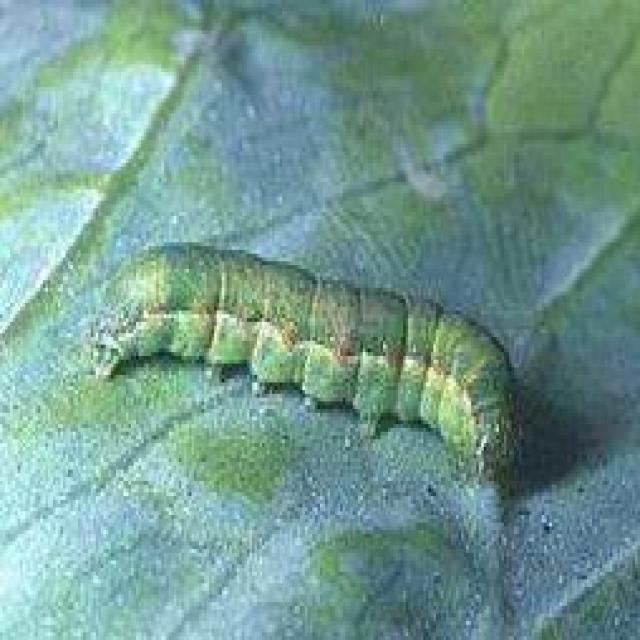BeetArmyWorm-Larva-: (89, 240, 535, 488)
